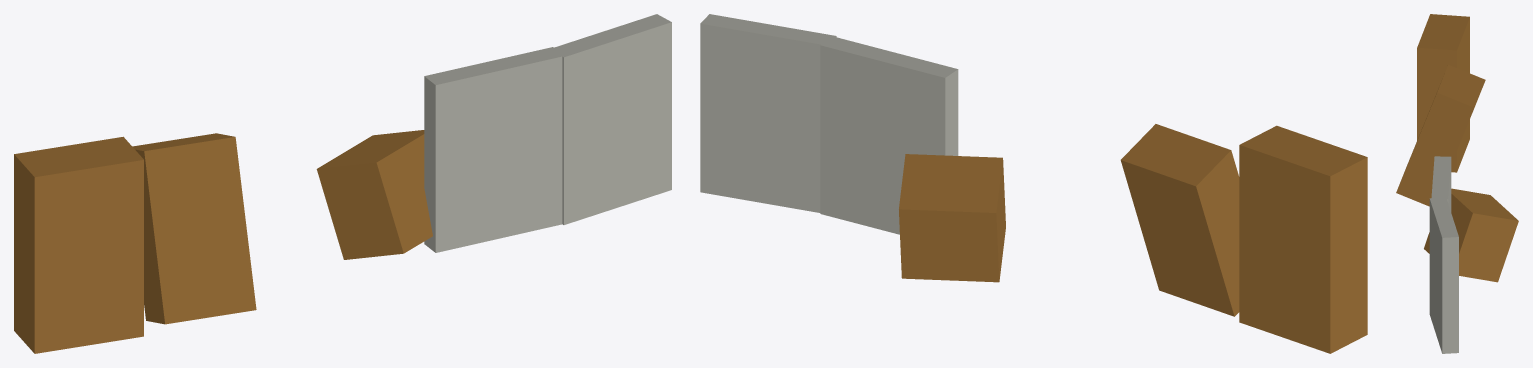
File: SM_BarricadaCivil_v1_Muebles_e1_Danado_LOD0.fbx
3 views of the same model, side by side, from view 1: azimuth 30°, elevation 25°; view 2: azimuth 150°, elevation 25°; view 3: azimuth 270°, elevation 25° (orthographic). The views are drawn at different scales.
Visible parts, largest first — view 1: SM_barricada_civil_v5_LOD0; view 2: SM_barricada_civil_v5_LOD0; view 3: SM_barricada_civil_v5_LOD0.
Part boxes in pixels (x1=…): SM_barricada_civil_v5_LOD0: x1=14, y1=14, x2=671, y2=353; SM_barricada_civil_v5_LOD0: x1=700, y1=14, x2=1367, y2=353; SM_barricada_civil_v5_LOD0: x1=1396, y1=14, x2=1518, y2=353.
Bounding box in the file's own units: 7.65 × 2.11 × 1.82.
